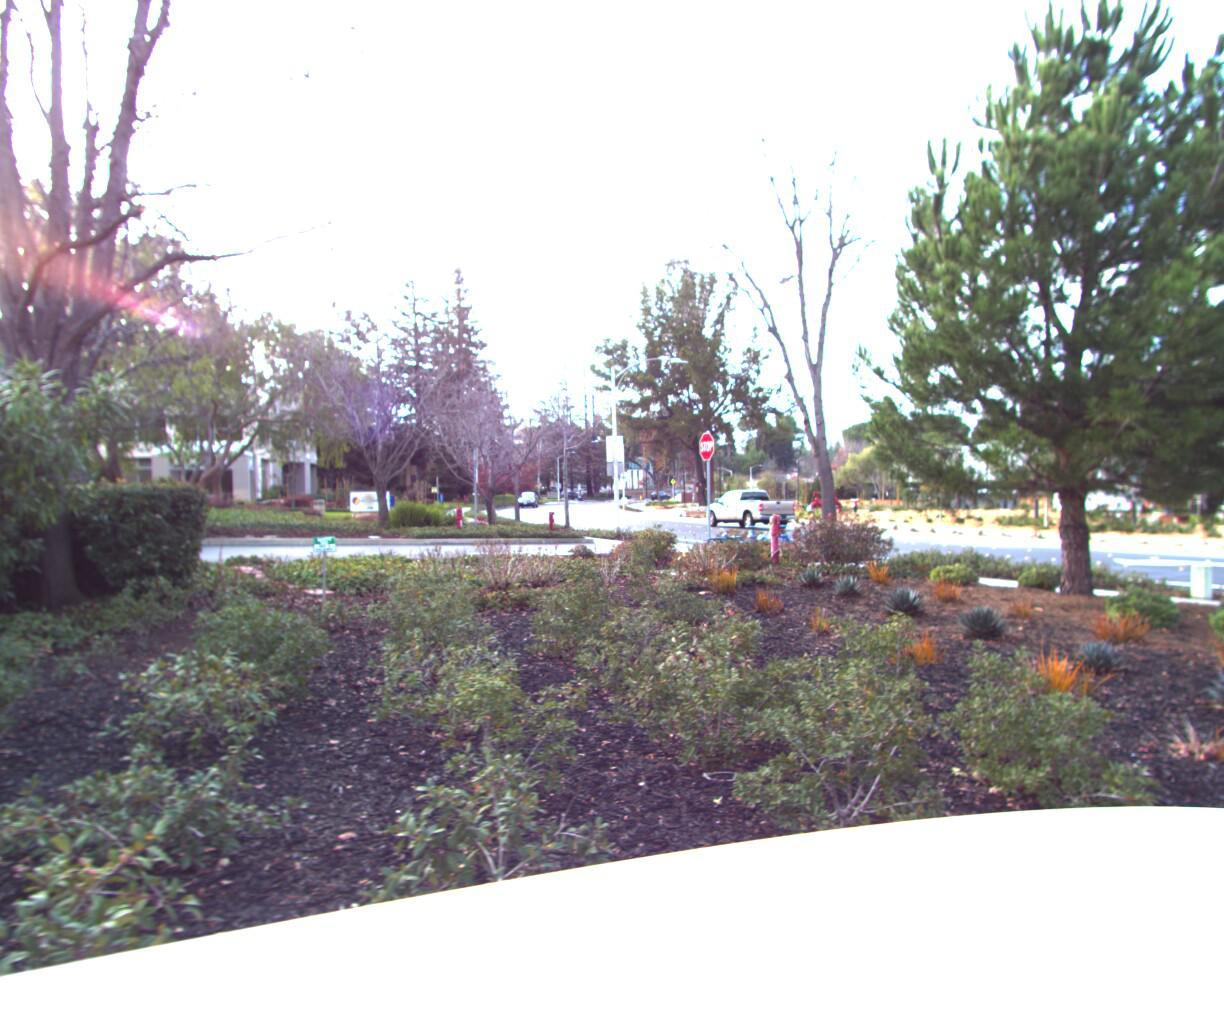car: (698, 483, 800, 528)
